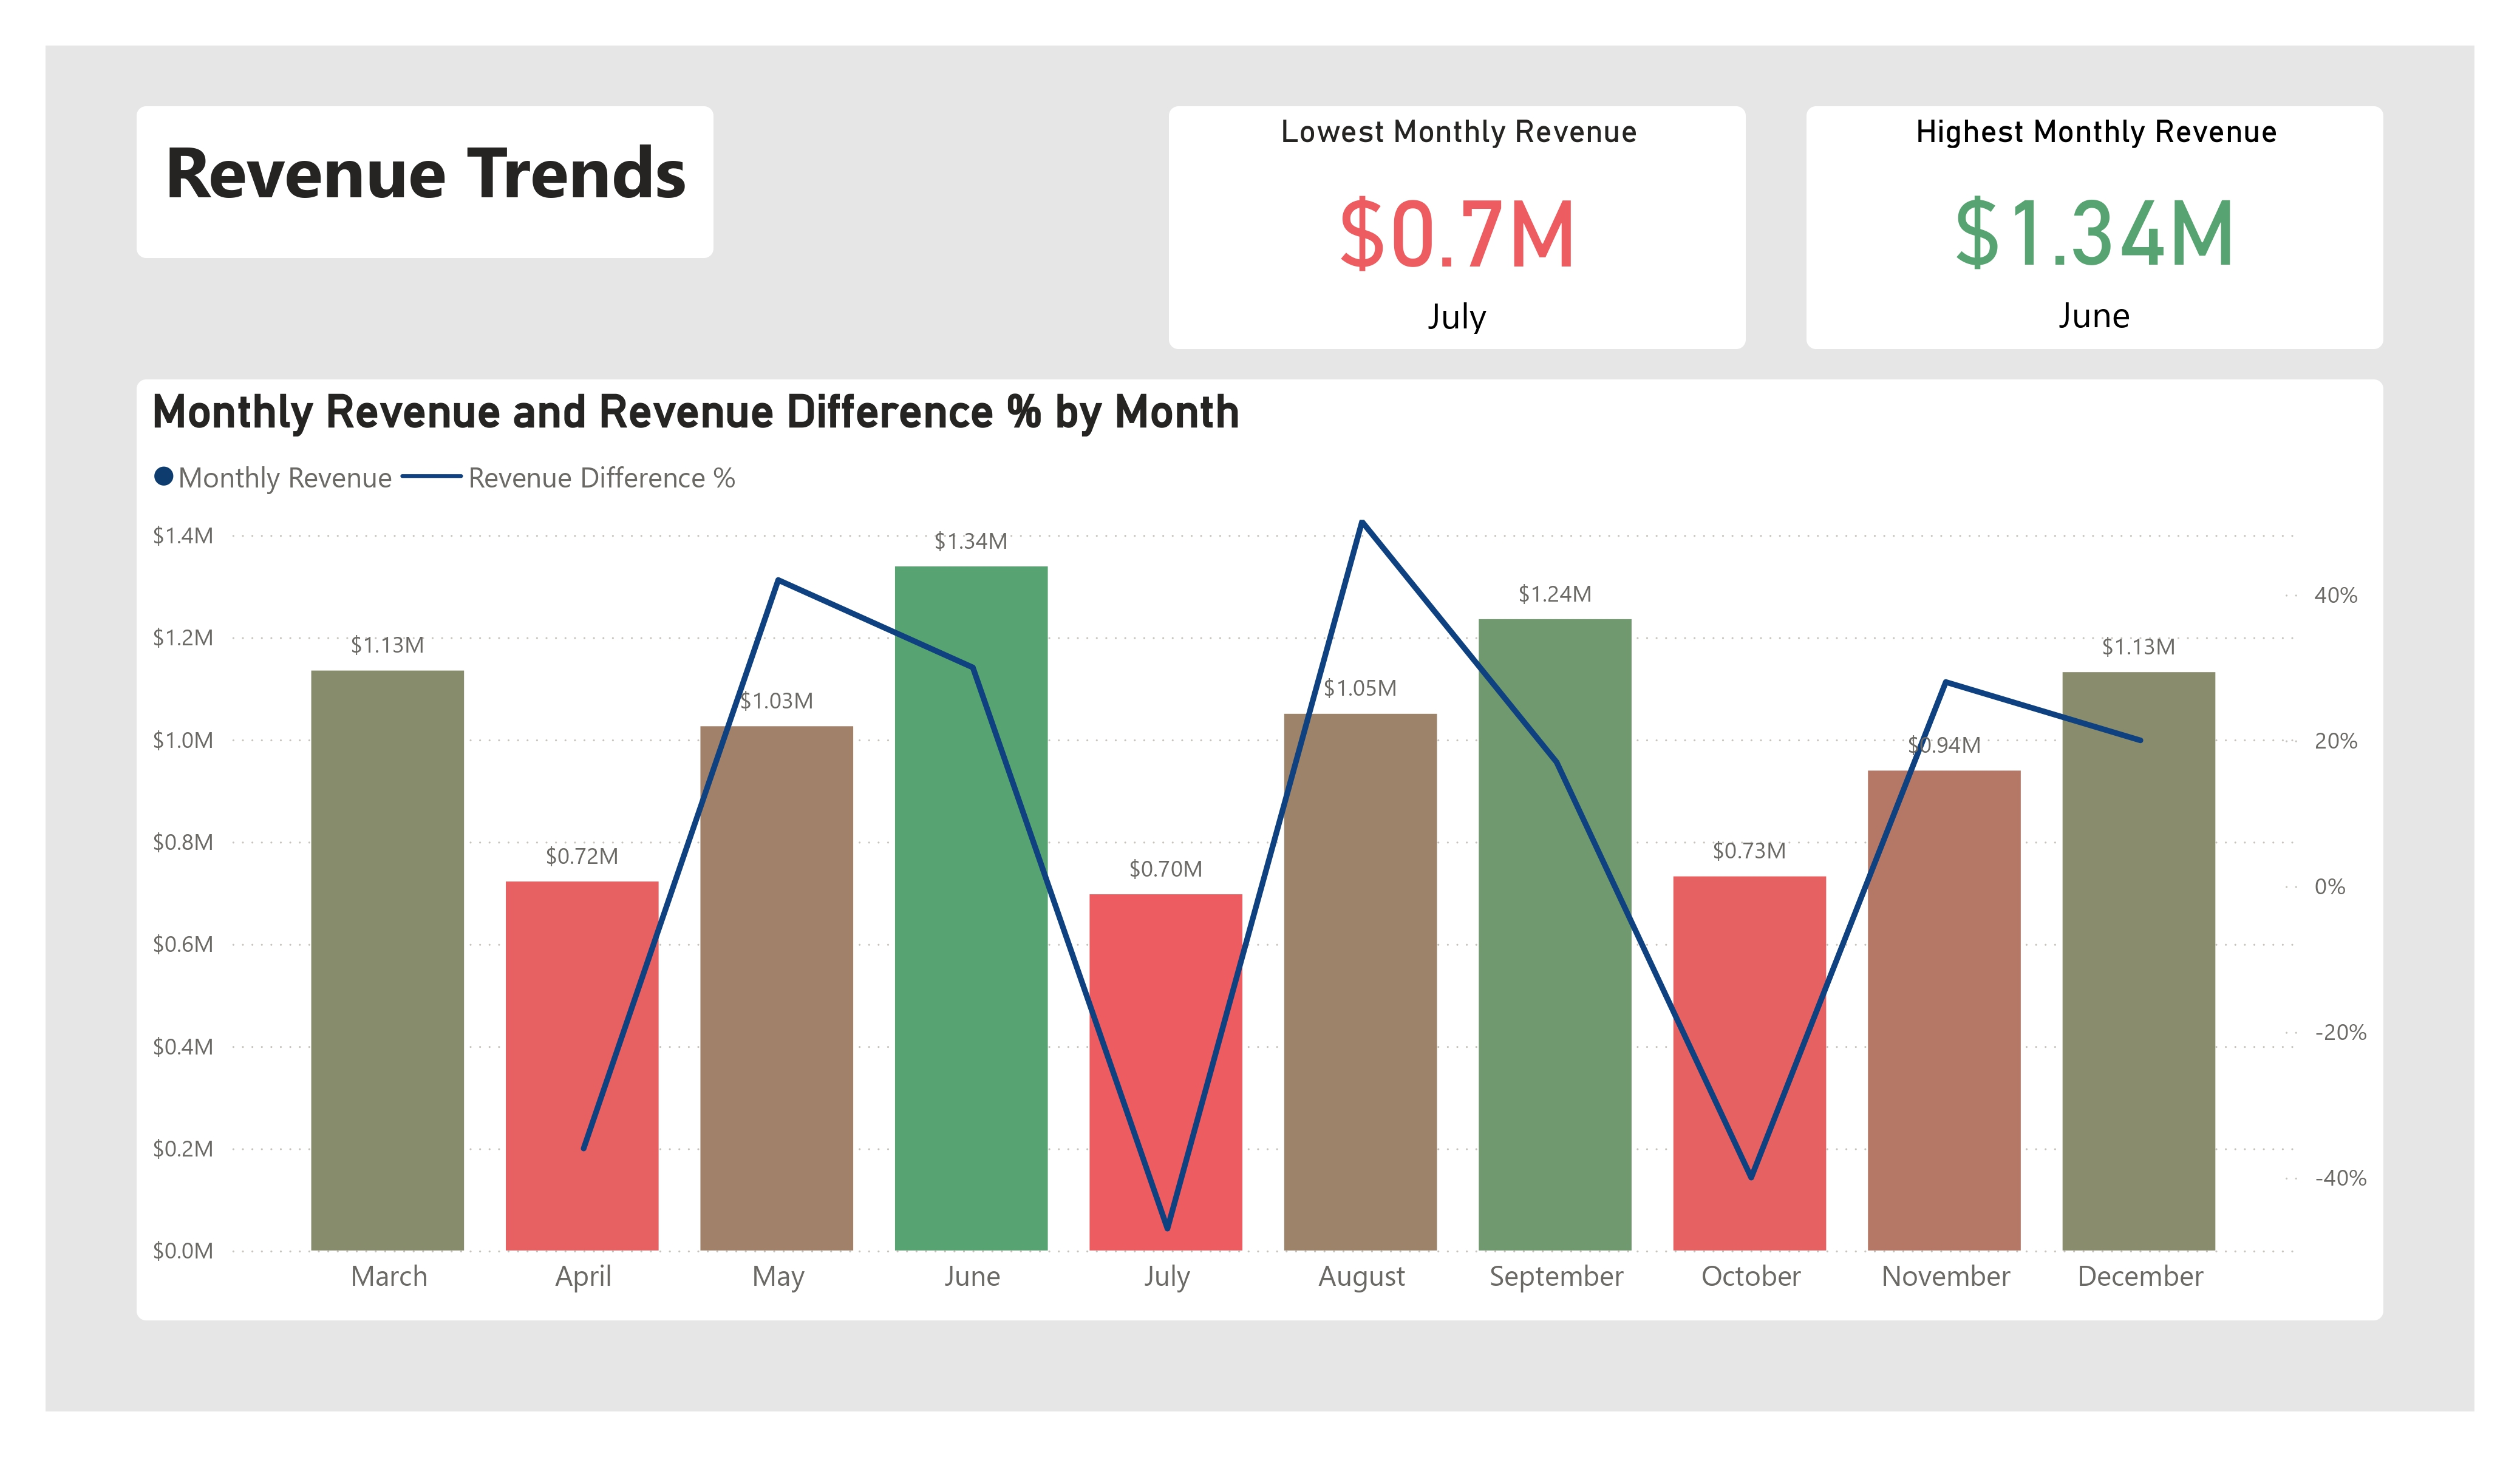

Layout of this report page (visuals, bound fields, positions):
{"tool":"powerbi","page":{"name":"Revenue Trends","canvas":[1280,720],"ordinal":6},"visuals":[{"type":"lineClusteredColumnComboChart","fields":{"Y":["Sum(Month by Month Revenue.Current Month Revenue)"],"Category":["Monthly Revenue and Running Total.Month.Variation.Date Hierarchy.Month"],"Y2":["Sum(Month by Month Revenue.Change)"]},"box":[48,176,1184,496],"z":0},{"type":"textbox","box":[48,32,304,80],"z":1000},{"type":"card","title":"Lowest Monthly Revenue","fields":{"Values":["Sum(Month by Month Revenue.Current Month Revenue)"]},"box":[592,32,304,128],"z":2000},{"type":"card","title":"Highest Monthly Revenue","fields":{"Values":["Sum(Month by Month Revenue.Current Month Revenue)"]},"box":[928,32,304,128],"z":3000}]}

Visuals, with their boxes in screenshot pixels (x1, y1, x2, y2):
lineClusteredColumnComboChart - Sum(Month by Month Revenue.Current Month Revenue) x Monthly Revenue and Running Total.Month.Variation.Date Hierarchy.Month: box=[137, 379, 2383, 1320]
textbox: box=[137, 106, 713, 258]
"Lowest Monthly Revenue" card: box=[1169, 106, 1746, 349]
"Highest Monthly Revenue" card: box=[1807, 106, 2383, 349]
